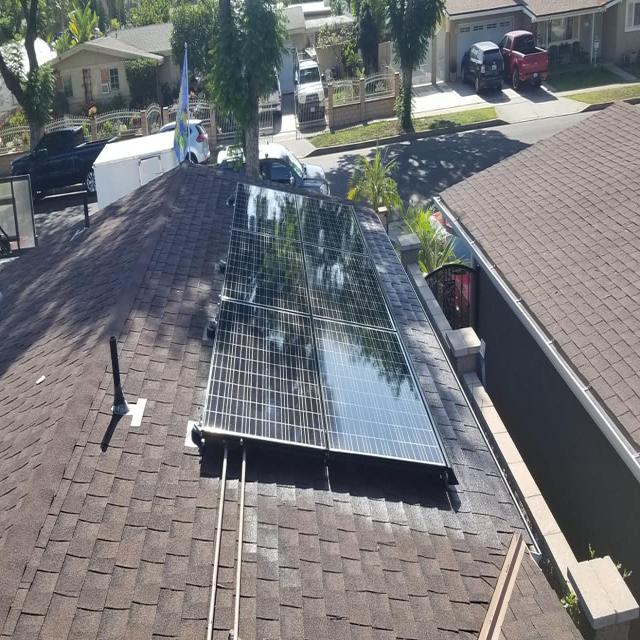clean-solar-panel: (205, 185, 449, 470)
